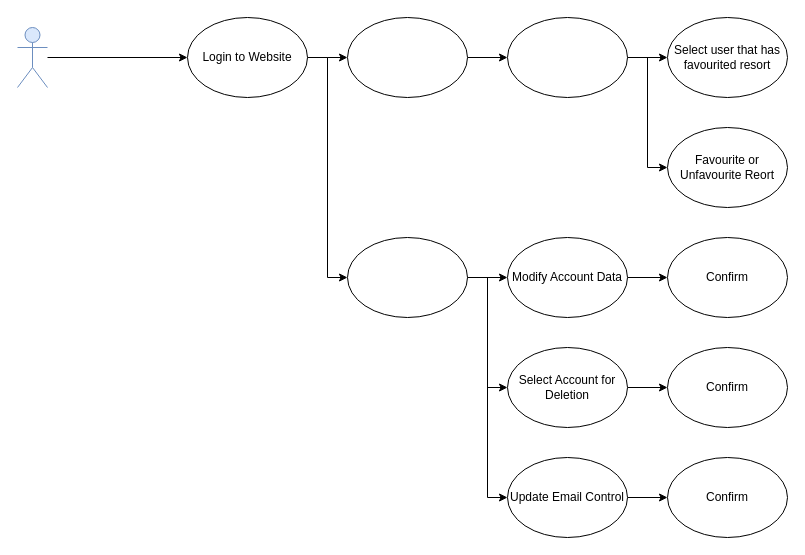
Image size: 805x555. Some labels were removed from this diagram. The shapes that lost their labels are listed below. From the top down, each one's centre as x and y in pixels, then its label:
At (32,57): "User".
At (407,57): "Navigate to List of Resorts".
At (567,57): "Select Resort".
At (407,277): "Navigate to Profile".
